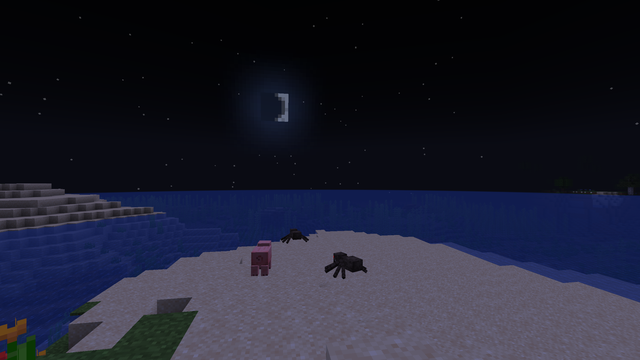araignees: (328, 249, 362, 277), (285, 227, 304, 243)
cochons: (249, 244, 273, 274)
